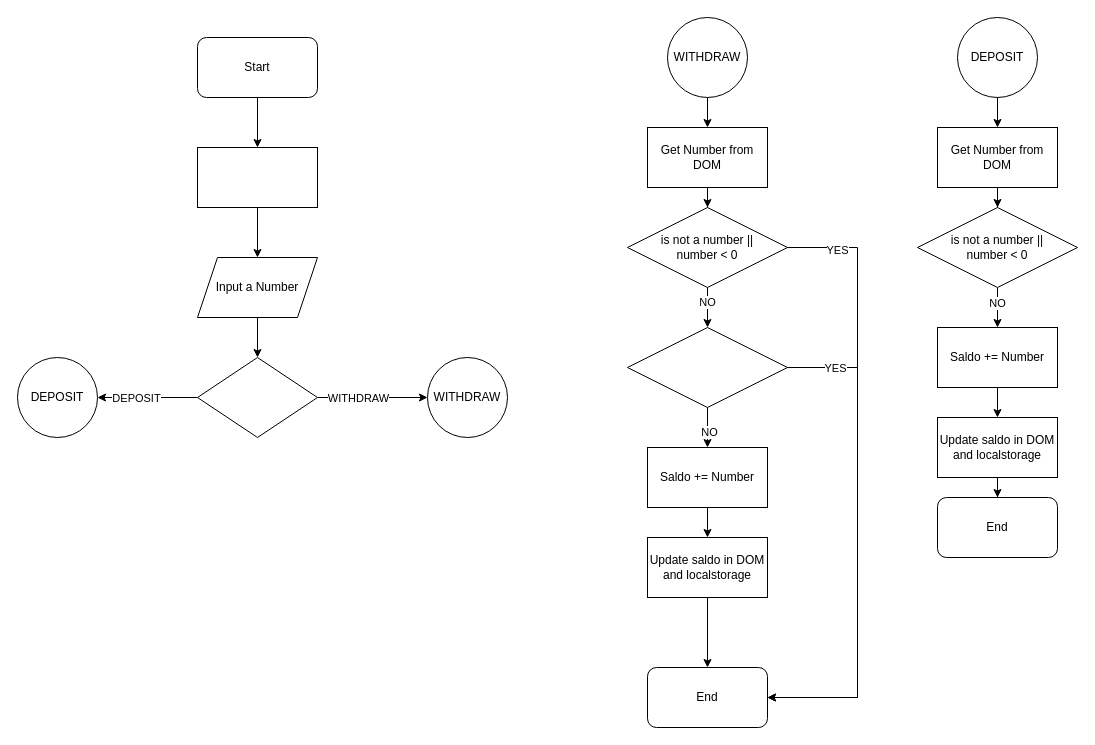
Some shapes in this 1095 by 745 pixel diagram are drawn without their labels. The shapes that lost their labels are listed below. From the top down, each one's box as (x1, y1, x2, y2) in pixels, then its label:
(196, 146, 318, 208): View the page
(626, 326, 788, 408): Number < Saldo
(196, 356, 318, 438): Click A button
